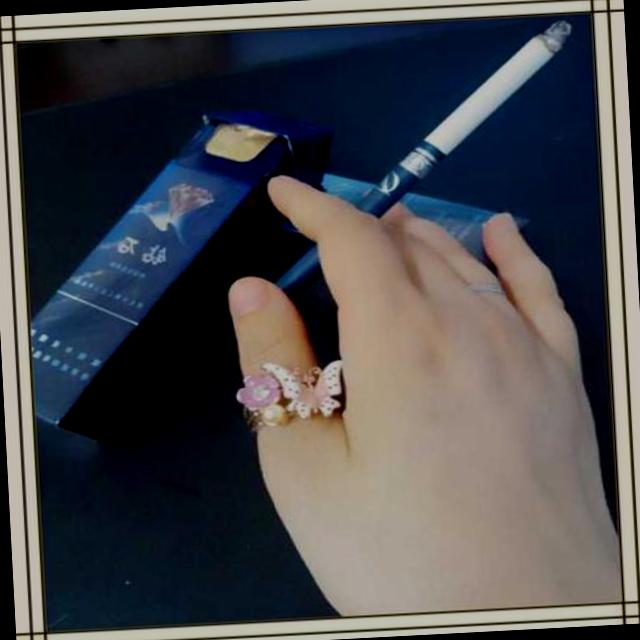smoke: (399, 20, 584, 178)
